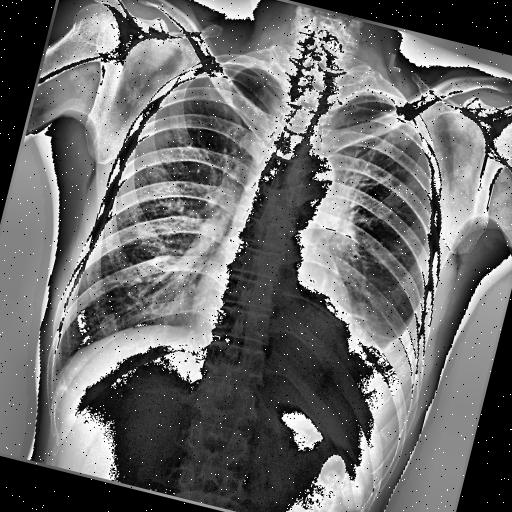0- Aortic enlargement: (279, 146, 341, 207)
10- Pleural effusion: (286, 278, 434, 400), (331, 276, 441, 417), (338, 286, 434, 404)
11- Pleural thickening: (334, 82, 399, 120)
13- Pulmonary fibrosis: (324, 302, 394, 340), (350, 91, 374, 161), (367, 328, 396, 342)
